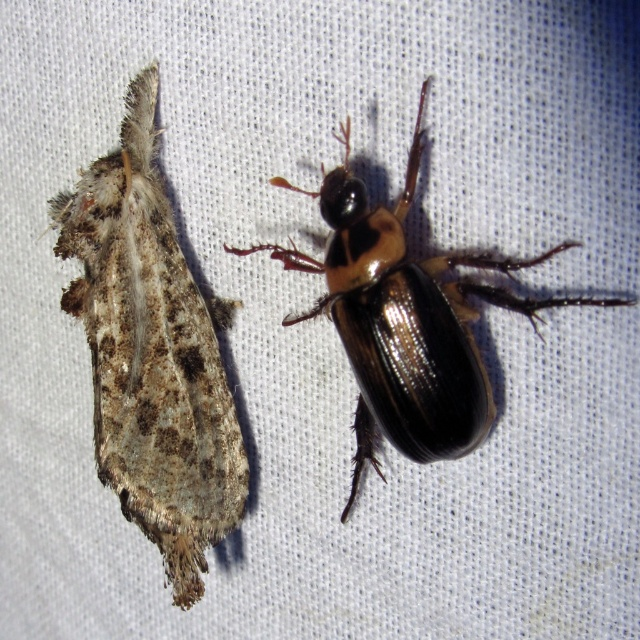Moths and butterflies: (49, 57, 251, 612)
